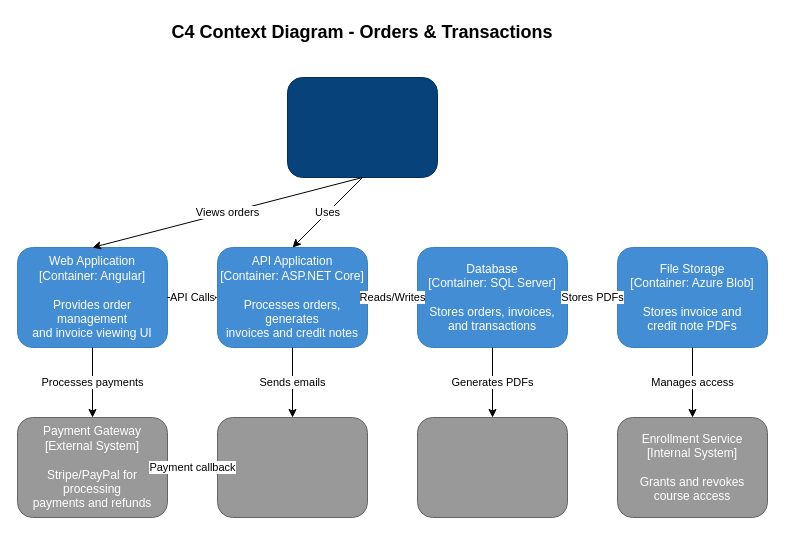
Some shapes in this 785 by 535 pixel diagram are drawn without their labels. The shapes that lost their labels are listed below. From the top down, each one's box as (x1, y1, x2, y2) in pixels, then its label:
(286, 76, 438, 178): User [Person] A user purchasing courses on the platform
(216, 416, 368, 518): Email Service [External System] Sends order confirmations and invoice emails
(416, 416, 568, 518): PDF Generator [External System] Generates invoice and credit note PDFs
